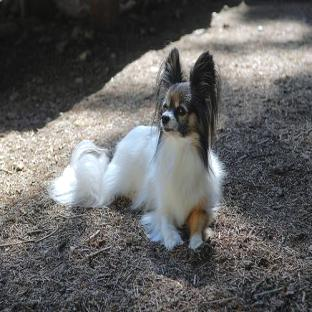Animal: (50, 48, 224, 249)
